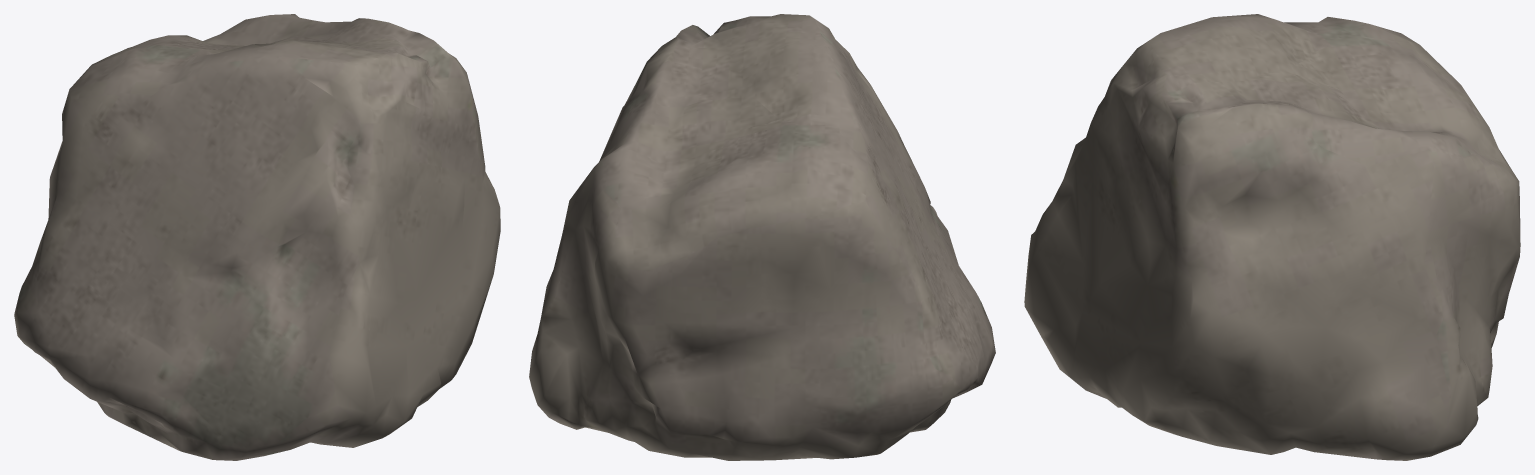
File: moon_rock_02.slim.glb
The picture shows the model from 3 angles, left to right: view 1: azimuth 30°, elevation 25°; view 2: azimuth 150°, elevation 25°; view 3: azimuth 270°, elevation 25°; orthographic projection. The views are drawn at different scales.
Bounding box in the file's own units: 0.2452 × 0.2015 × 0.2513.
Materials: 1 (1 with a texture image).
